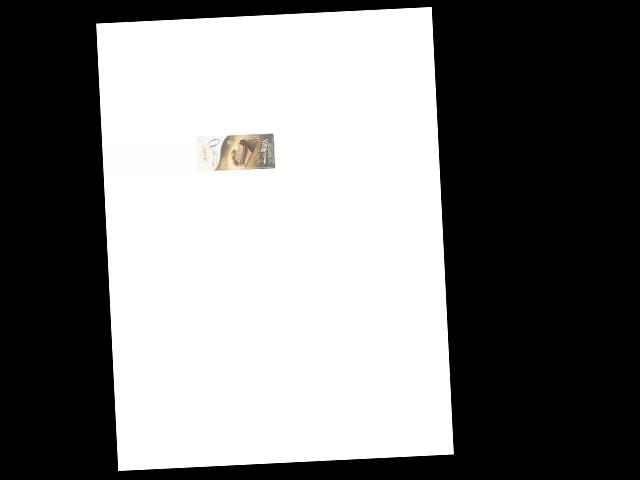chocolate: (195, 130, 276, 173)
